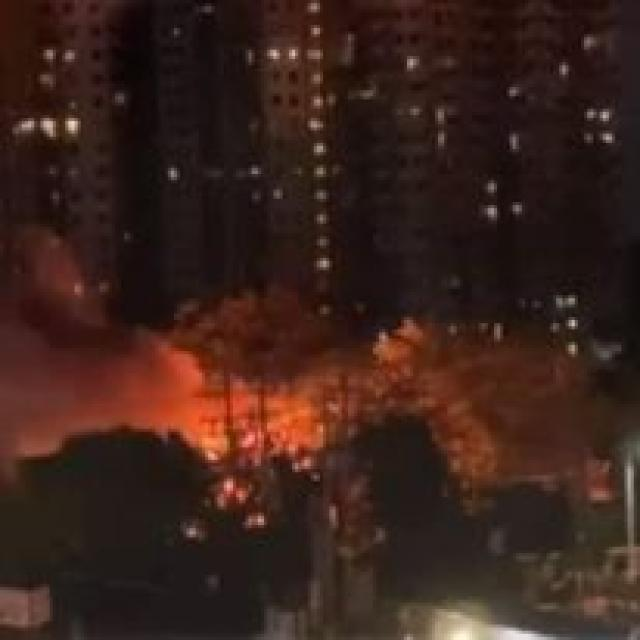Smoke: (0, 295, 200, 442)
